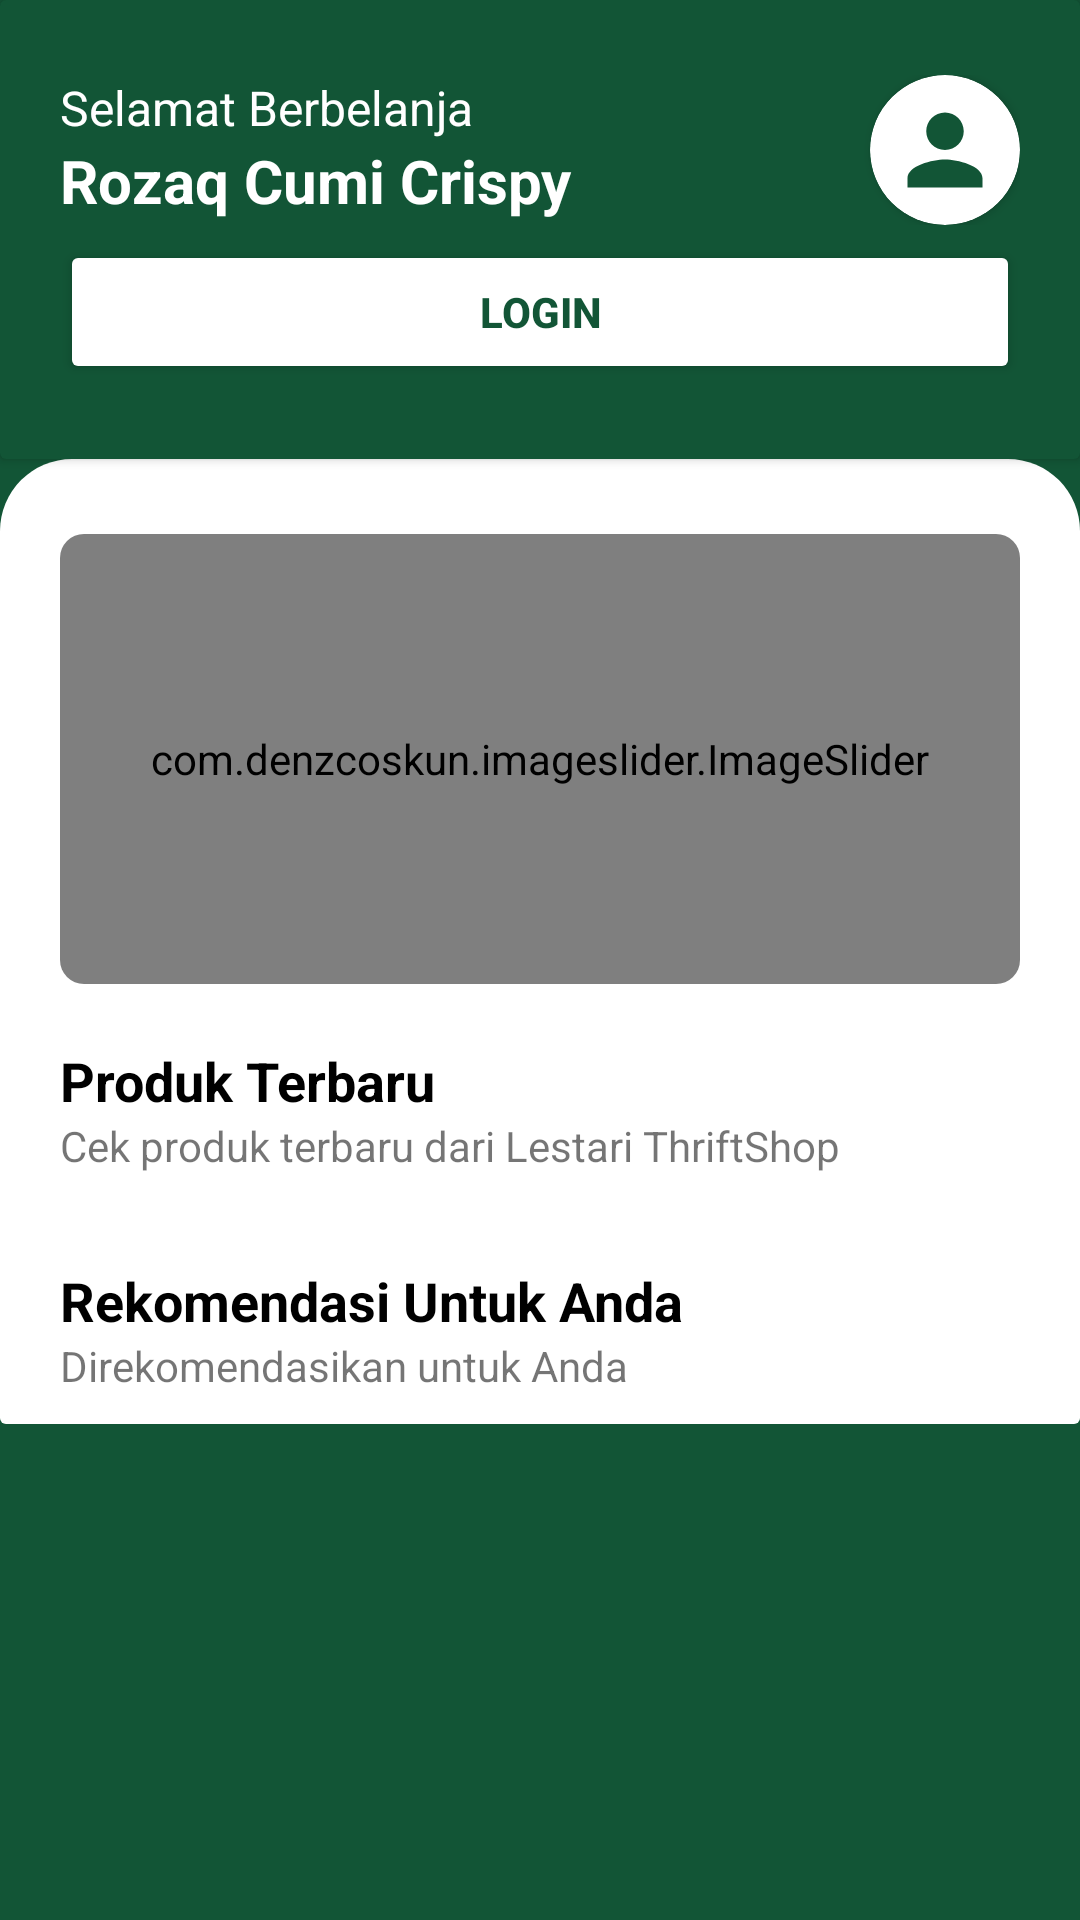

Icons on this 1080px x 1920px Android screen, each with the point to tap as point (x, y):
person: point (945, 150)
